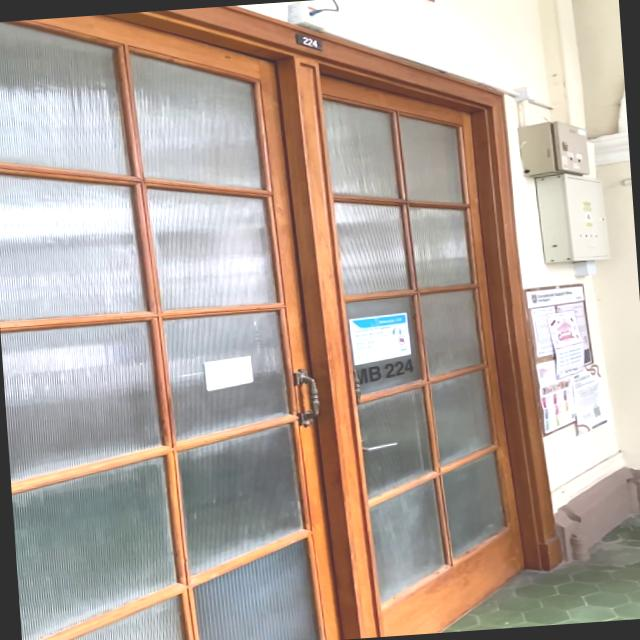room224: (293, 30, 323, 52)
